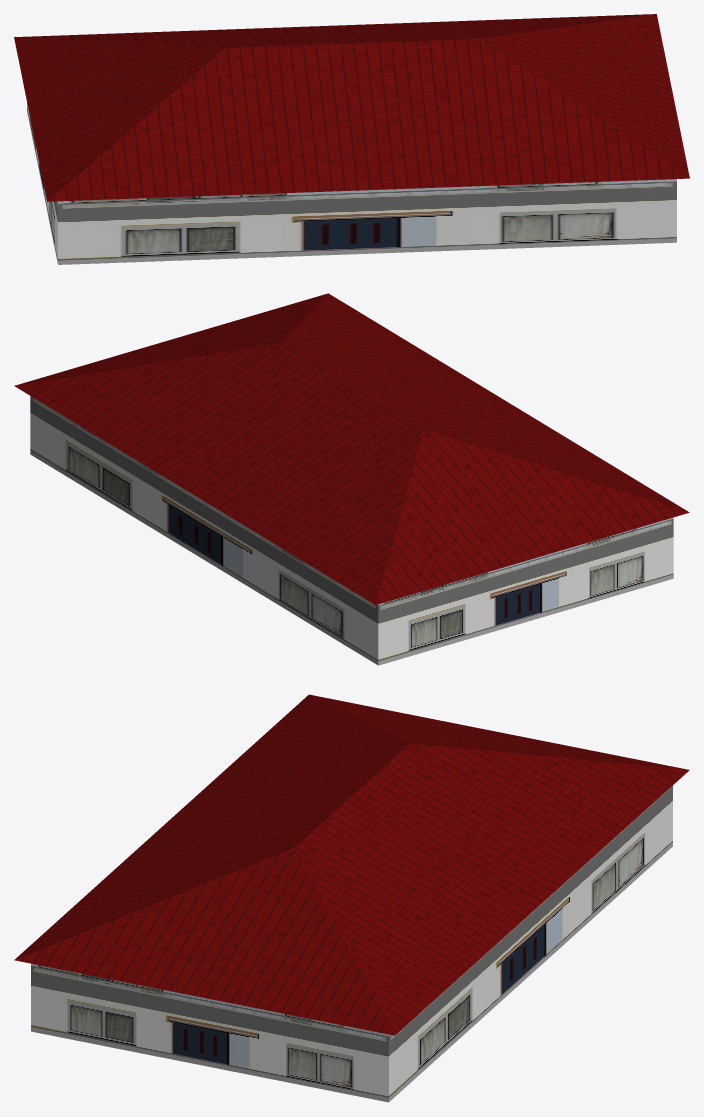
3 views of the same model, one above another, from view 1: azimuth 30°, elevation 25°; view 2: azimuth 150°, elevation 25°; view 3: azimuth 270°, elevation 25° (orthographic). The views are drawn at different scales.
Visible parts, largest first — view 1: CityEngineMaterial_17_m, CityEngineMaterial_7_m; view 2: CityEngineMaterial_17_m, CityEngineMaterial_7_m; view 3: CityEngineMaterial_17_m, CityEngineMaterial_7_m.
Boxes of the visible parts, box(x1,y1,x2,y2) form: CityEngineMaterial_17_m: box(14, 14, 689, 201); CityEngineMaterial_7_m: box(27, 102, 676, 264); CityEngineMaterial_17_m: box(14, 293, 689, 604); CityEngineMaterial_7_m: box(30, 396, 673, 665); CityEngineMaterial_17_m: box(14, 694, 689, 1035); CityEngineMaterial_7_m: box(31, 785, 672, 1102).
Bounding box in the file's own units: 59.22 × 11.6 × 49.58.
